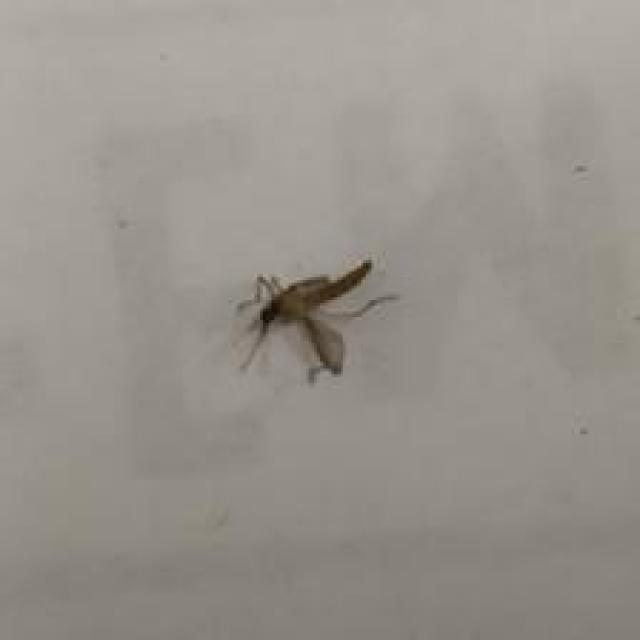Culex: (229, 256, 400, 384)
